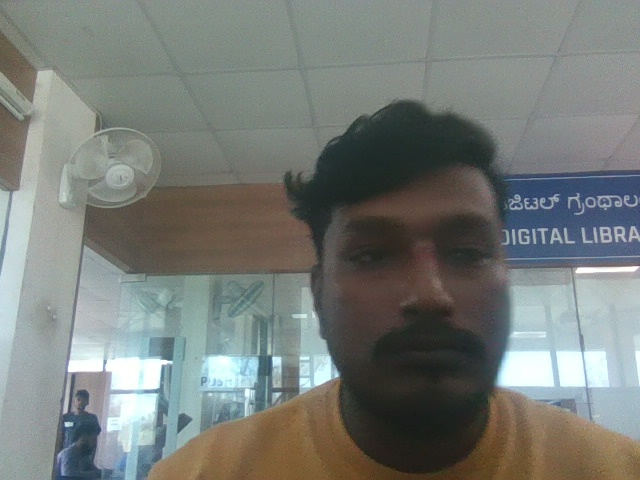real: (289, 77, 544, 439)
